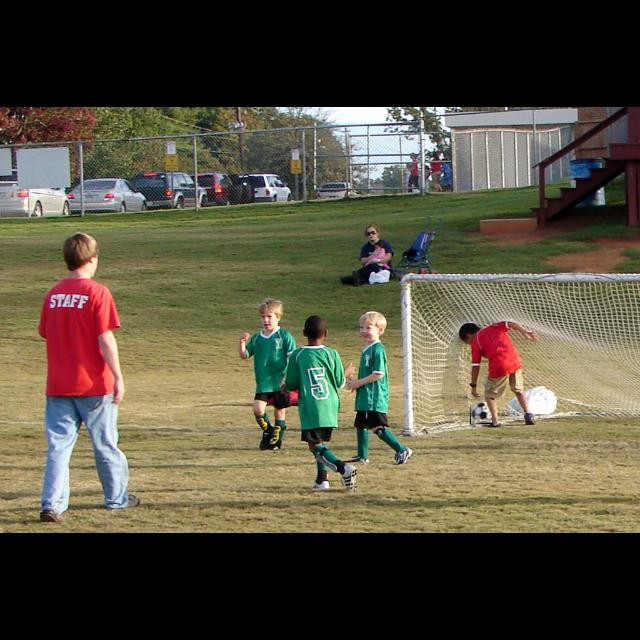Football: (470, 402, 492, 424)
